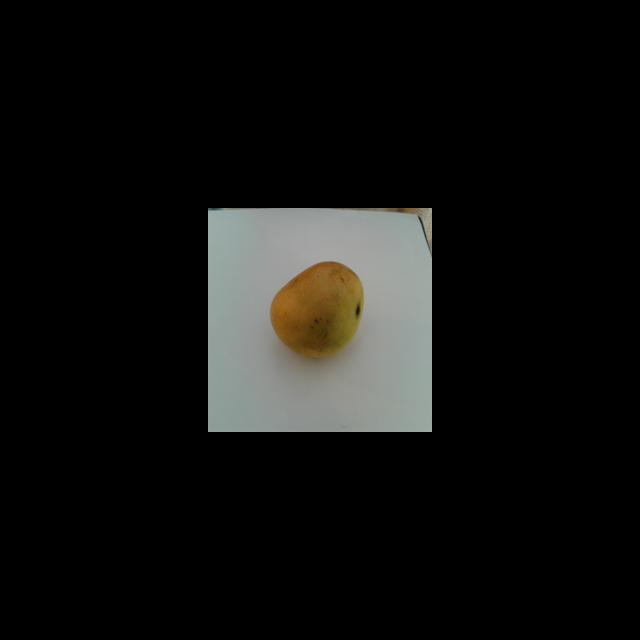Mango: (269, 260, 364, 358)
